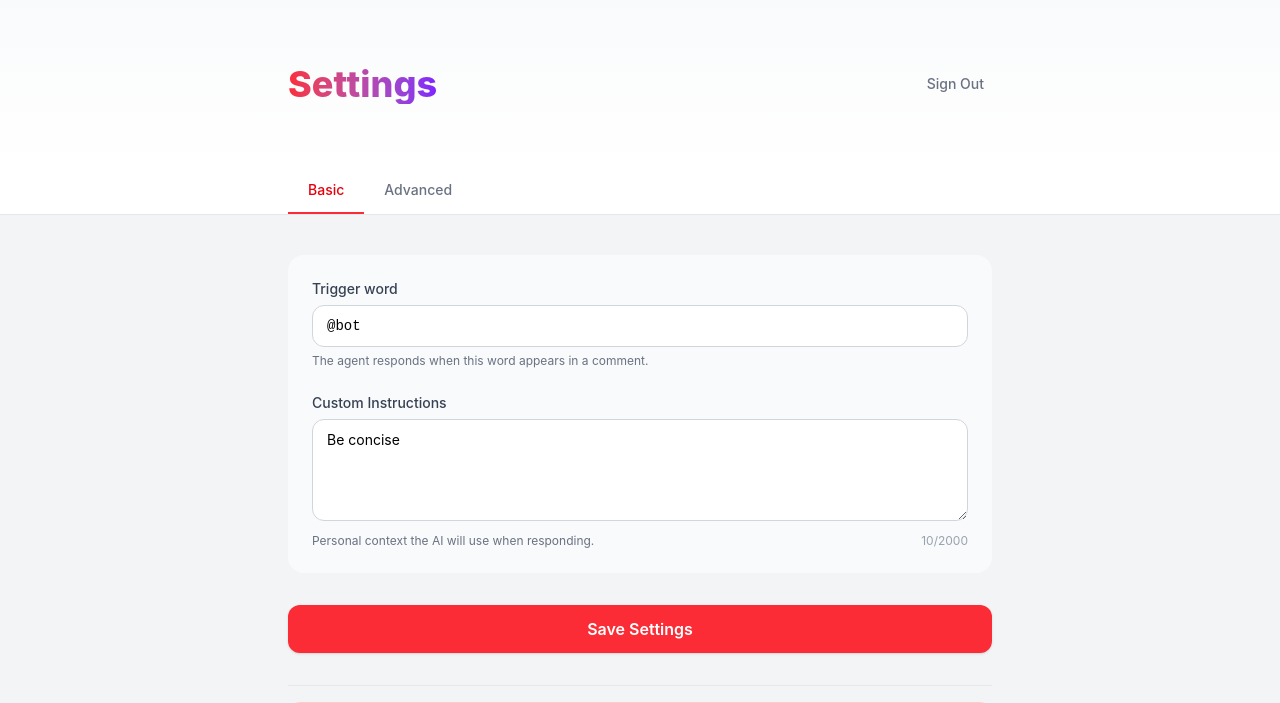
it: Settings: display › populates fields from loaded settings
The image size is (1280, 703).
Check: the field showing "@bot" is shown, box [312,305,968,347]
Check: the text box showing "Be concise" is shown, box [312,419,968,521]
What coordinates should you click on to do the following:
click the tab "Advanced"
I would click on:
 (418, 191)
Its box is [364,168,472,214].
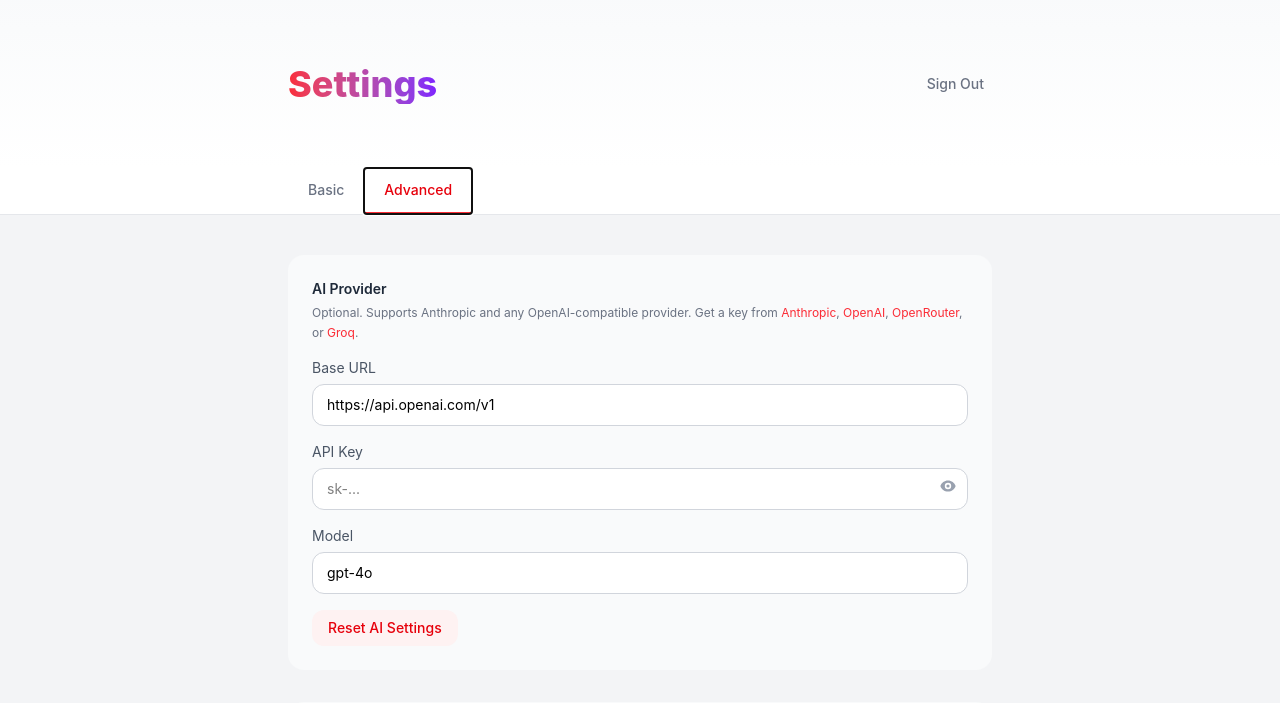
Check: the field showing "https://api.openai.com/v1" is shown, box [312,384,968,426]
Check: the field showing "gpt-4o" is shown, box [312,552,968,594]
